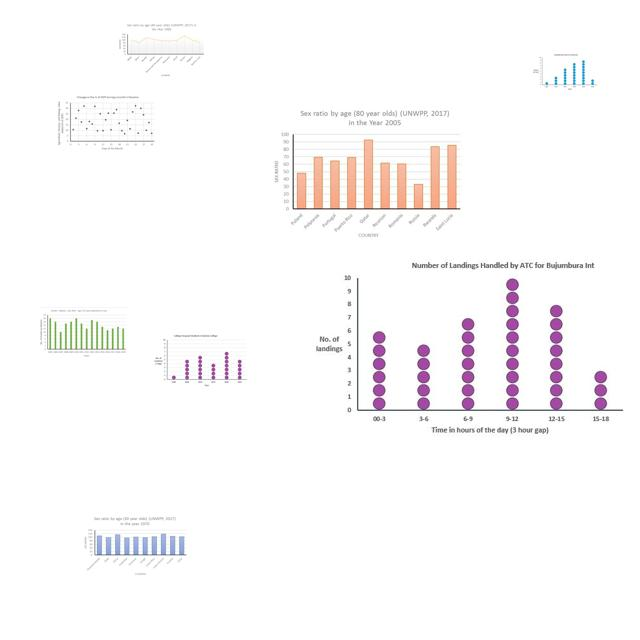Graph: (305, 254, 630, 442), (269, 107, 464, 242), (81, 515, 188, 578), (55, 94, 157, 153), (152, 333, 248, 389), (117, 22, 205, 77), (38, 307, 128, 358), (531, 52, 599, 92)
